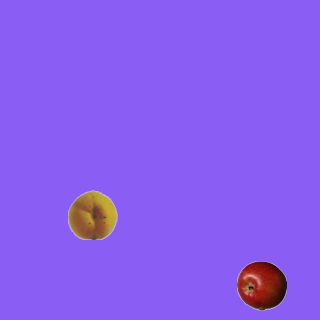Apple Braeburn: (236, 260, 286, 310)
Peach 2: (67, 189, 117, 239)
